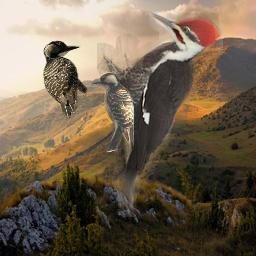Woodpecker: (97, 11, 223, 217), (43, 40, 89, 120), (91, 72, 134, 152)
